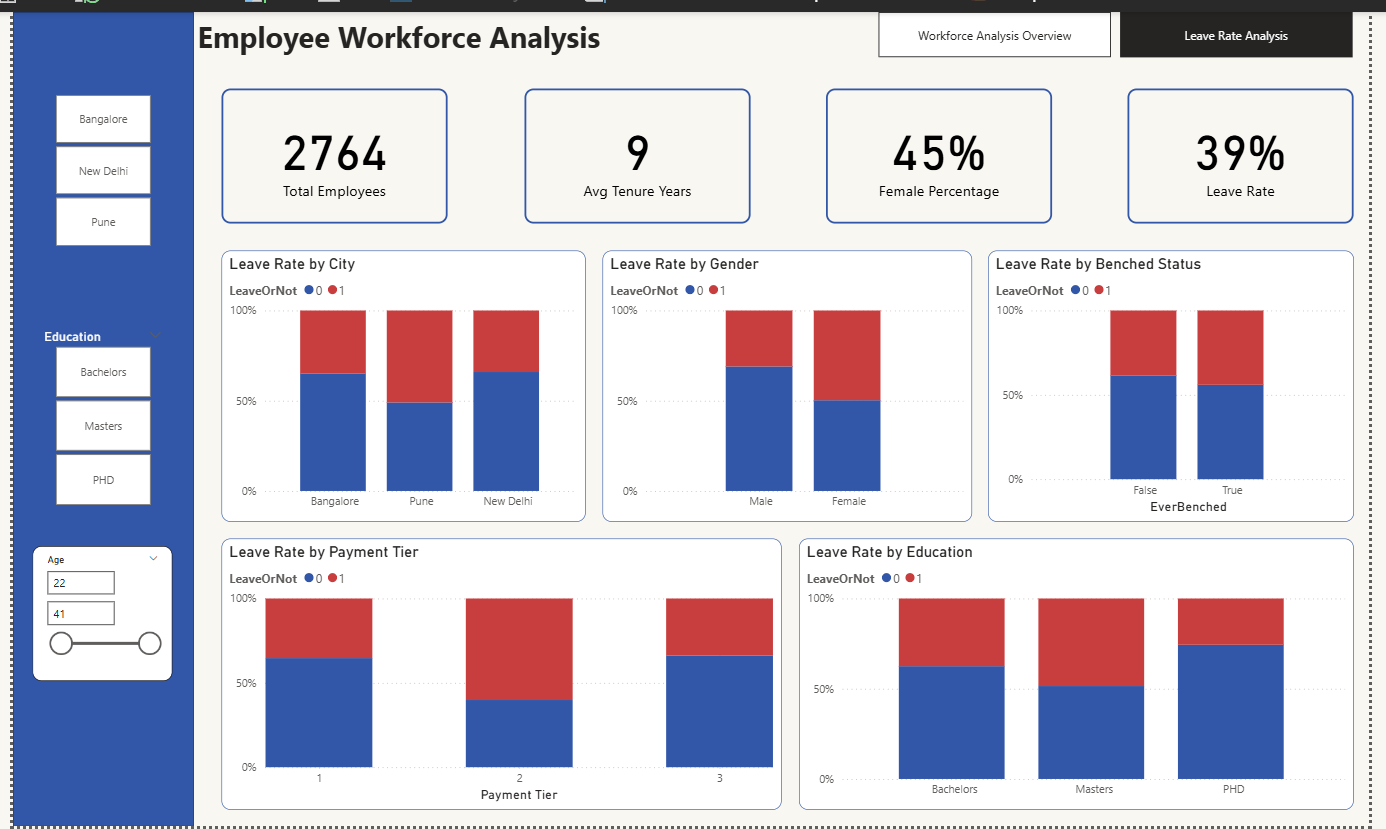

Layout of this report page (visuals, bound fields, positions):
{"tool":"powerbi","page":{"name":"Leave Rate Analysis","canvas":[1280,720],"ordinal":1},"visuals":[{"type":"hundredPercentStackedColumnChart","title":"Leave Rate by City","fields":{"Category":["cleaned_employee_data.City"],"Y":["Sum(cleaned_employee_data.LeaveOrNot)"],"Series":["cleaned_employee_data.LeaveOrNot"]},"box":[27.3,74.2,404.3,296.8],"z":0},{"type":"hundredPercentStackedColumnChart","title":"Leave Rate by Payment Tier","fields":{"Category":["cleaned_employee_data.Payment Tier"],"Y":["Sum(cleaned_employee_data.LeaveOrNot)"],"Series":["cleaned_employee_data.LeaveOrNot"]},"box":[26.8,382.1,619,323.7],"z":1},{"type":"hundredPercentStackedColumnChart","title":"Leave Rate by Education","fields":{"Category":["cleaned_employee_data.Education"],"Y":["Sum(cleaned_employee_data.LeaveOrNot)"],"Series":["cleaned_employee_data.LeaveOrNot"]},"box":[656.9,382.1,607.9,323.7],"z":2},{"type":"hundredPercentStackedColumnChart","title":"Leave Rate by Gender","fields":{"Category":["cleaned_employee_data.Gender"],"Y":["Sum(cleaned_employee_data.LeaveOrNot)"],"Series":["cleaned_employee_data.LeaveOrNot"]},"box":[442.1,74.2,407.3,296.8],"z":3},{"type":"hundredPercentStackedColumnChart","title":"Leave Rate by Benched Status","fields":{"Category":["cleaned_employee_data.EverBenched"],"Y":["Sum(cleaned_employee_data.LeaveOrNot)"],"Series":["cleaned_employee_data.LeaveOrNot"]},"box":[860.1,25.7,404.3,345.2],"z":4},{"type":"slicer","fields":{"Values":["cleaned_employee_data.Age"]},"box":[571.6,0,277.9,58.4],"z":5},{"type":"pageNavigator","box":[26.8,18.9,524.2,39.5],"z":9}]}

Visuals, with their boxes on the page's 1280x720 design canvas (x1, y1, x2, y2). These are canvas units, not pixel positions in the 1386x829 screenshot, which may show the page scaled, cropped or inside an application window:
"Leave Rate by City" hundredPercentStackedColumnChart: [27, 74, 432, 371]
"Leave Rate by Payment Tier" hundredPercentStackedColumnChart: [27, 382, 646, 706]
"Leave Rate by Education" hundredPercentStackedColumnChart: [657, 382, 1265, 706]
"Leave Rate by Gender" hundredPercentStackedColumnChart: [442, 74, 849, 371]
"Leave Rate by Benched Status" hundredPercentStackedColumnChart: [860, 26, 1264, 371]
slicer - cleaned_employee_data.Age: [572, 0, 850, 58]
pageNavigator: [27, 19, 551, 58]
